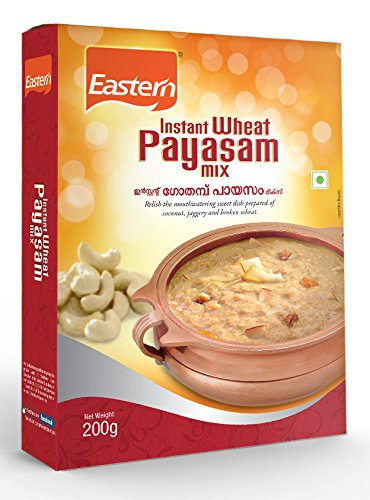VEG: (310, 170, 330, 189)
